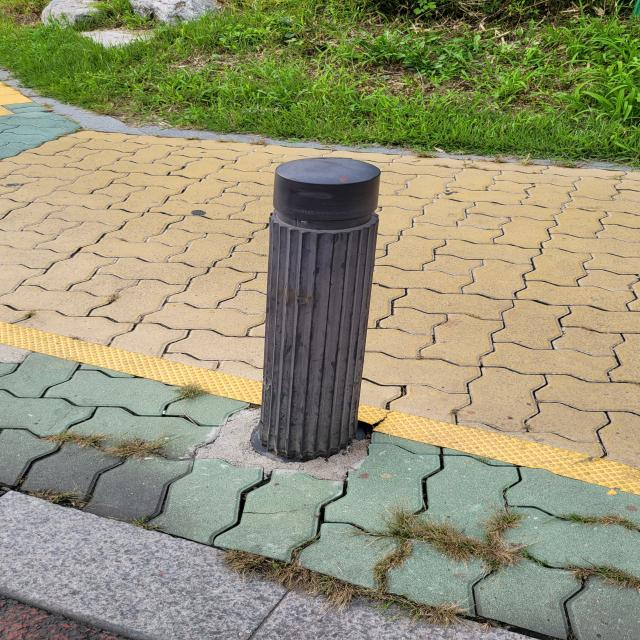pole: (259, 157, 380, 460)
